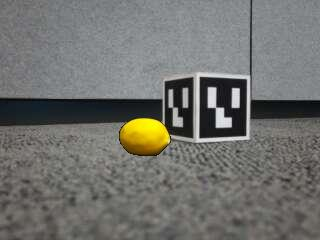lemon: (119, 118, 169, 155)
